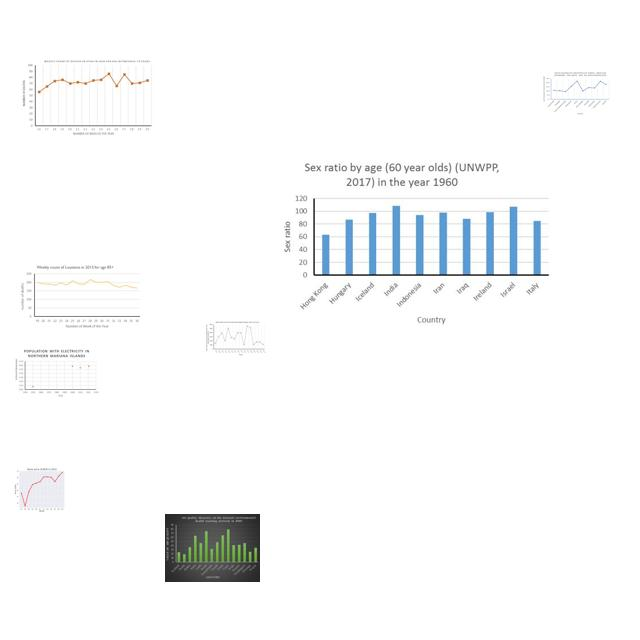Graph: (276, 153, 557, 333), (19, 56, 155, 139), (20, 264, 140, 330), (165, 514, 260, 582), (13, 347, 100, 399), (6, 465, 76, 513), (542, 71, 610, 116), (205, 321, 266, 356)
